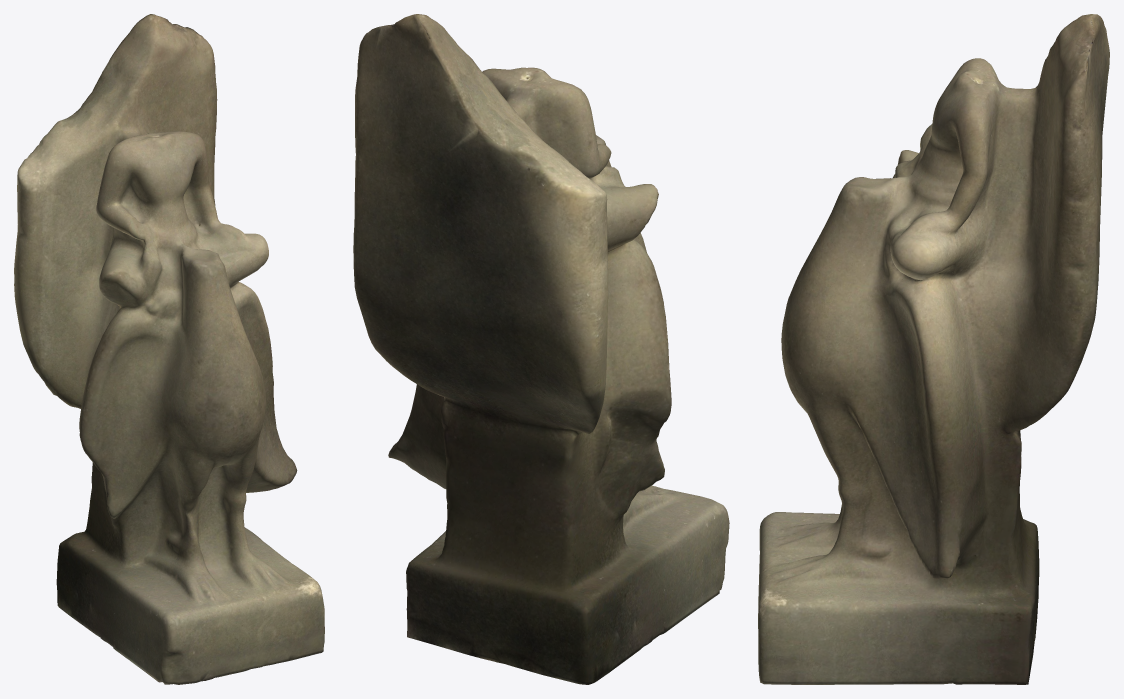
File: 22_skanda_final.glb
The picture shows the model from 3 angles, left to right: view 1: azimuth 30°, elevation 25°; view 2: azimuth 150°, elevation 25°; view 3: azimuth 270°, elevation 25°; orthographic projection. The views are drawn at different scales.
Size of the model in its own units: 0.3377 by 0.7651 by 0.3752.
Materials: 1 (1 with a texture image).
